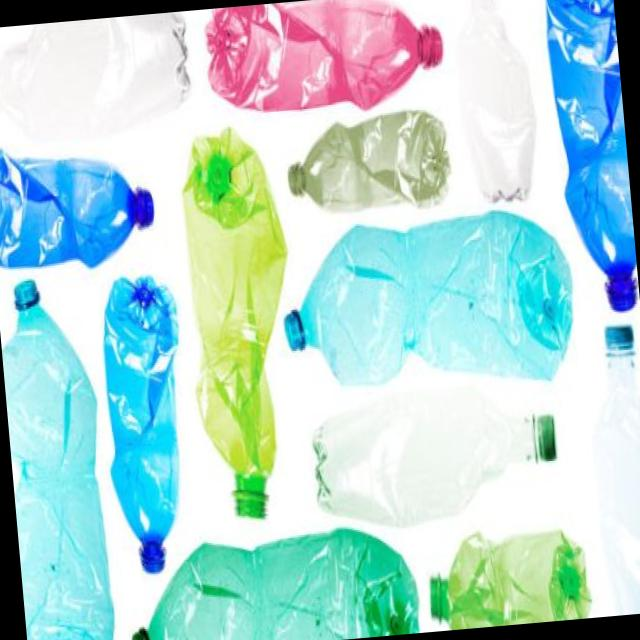general: (274, 202, 580, 402), (121, 519, 420, 640)
